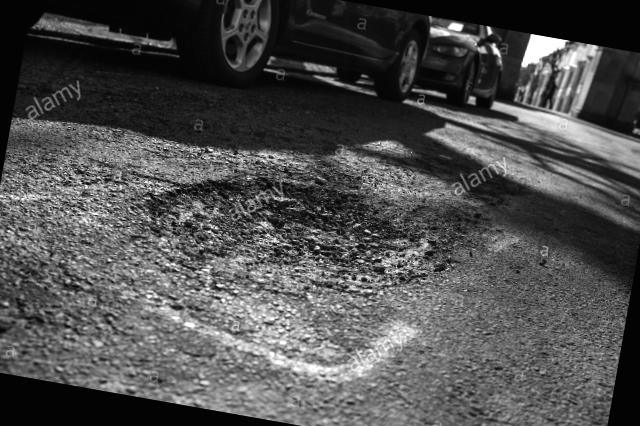Pothole: (118, 75, 616, 402)
